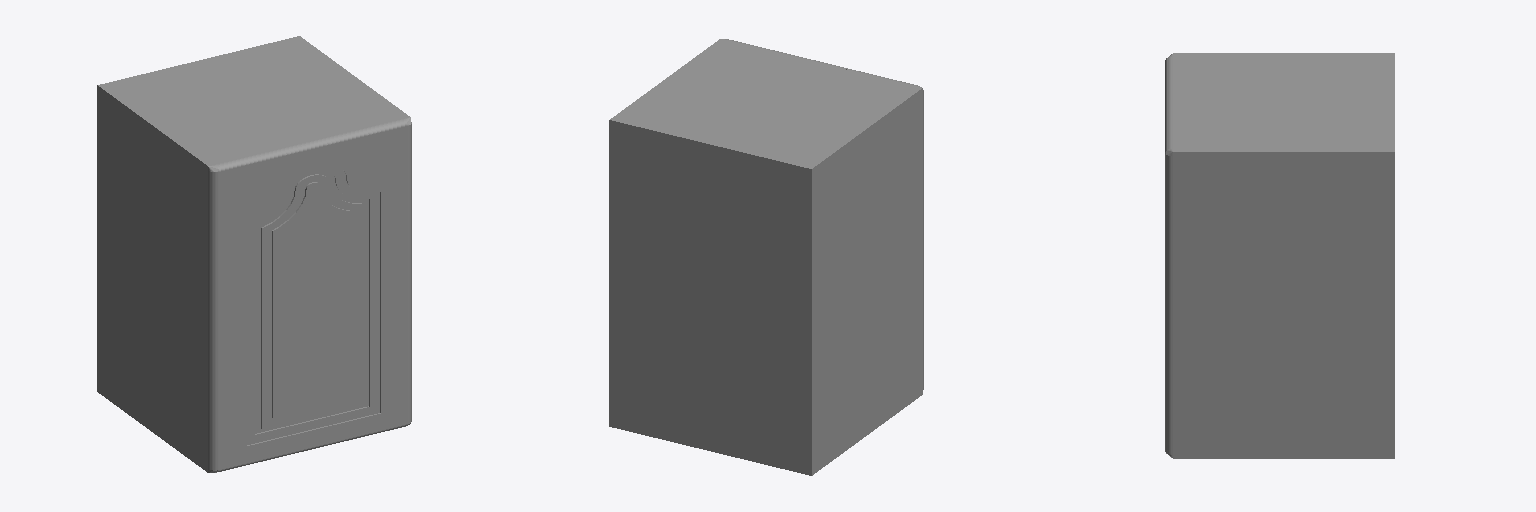
The model's file is single-base-unit-600.obj.
The picture shows the model from 3 angles: view 1: azimuth 30°, elevation 25°; view 2: azimuth 150°, elevation 25°; view 3: azimuth 270°, elevation 25°; orthographic projection.
Parts seen in each view (by area): view 1: Cube.003_Cube.008, Cube.002_Cube.004, Cube_Cube.002, Cube.001_Cube.003; view 2: Cube_Cube.002, Cube.002_Cube.004, Cube.001_Cube.003, Cube.003_Cube.008; view 3: Cube.001_Cube.003, Cube_Cube.002, Cube.003_Cube.008, Cube.002_Cube.004.
Boxes of the visible parts, x1,y1,x2,y2 form: Cube.003_Cube.008: [208, 117, 411, 472]; Cube.002_Cube.004: [97, 84, 212, 472]; Cube_Cube.002: [103, 37, 404, 164]; Cube.001_Cube.003: [295, 36, 409, 117]; Cube_Cube.002: [615, 40, 916, 474]; Cube.002_Cube.004: [807, 87, 922, 475]; Cube.001_Cube.003: [609, 39, 724, 427]; Cube.003_Cube.008: [724, 39, 923, 389]; Cube.001_Cube.003: [1173, 149, 1394, 458]; Cube_Cube.002: [1173, 56, 1394, 148]; Cube.003_Cube.008: [1165, 54, 1172, 457]; Cube.002_Cube.004: [1173, 53, 1394, 55].
Bounding box in the file's own units: 120 × 174 × 118.